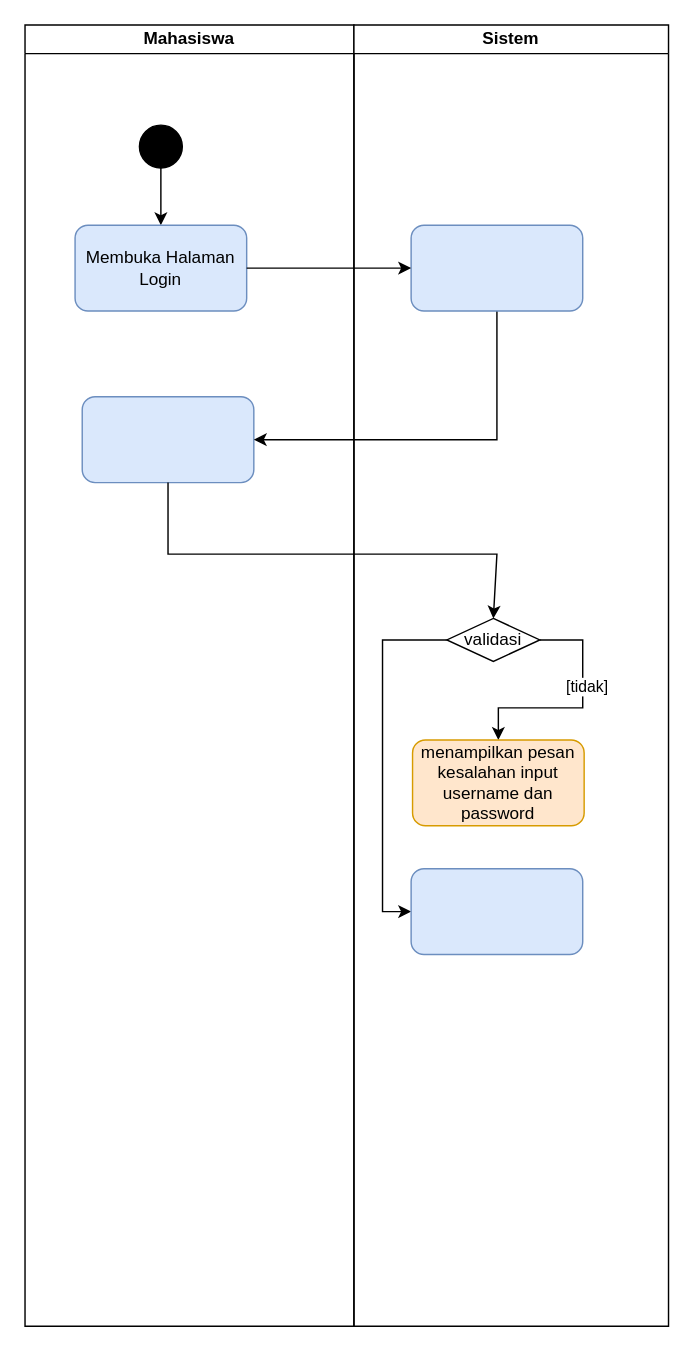
Image size: 694x1351. Some labels were removed from this diagram. The shapes that lost their labels are listed below. From the top down, each one's centre as x and y in pixels, then its label:
pixel 496 267: menampilkan form login
pixel 167 439: mengisi form login
pixel 496 911: menampilkan dahsboard
